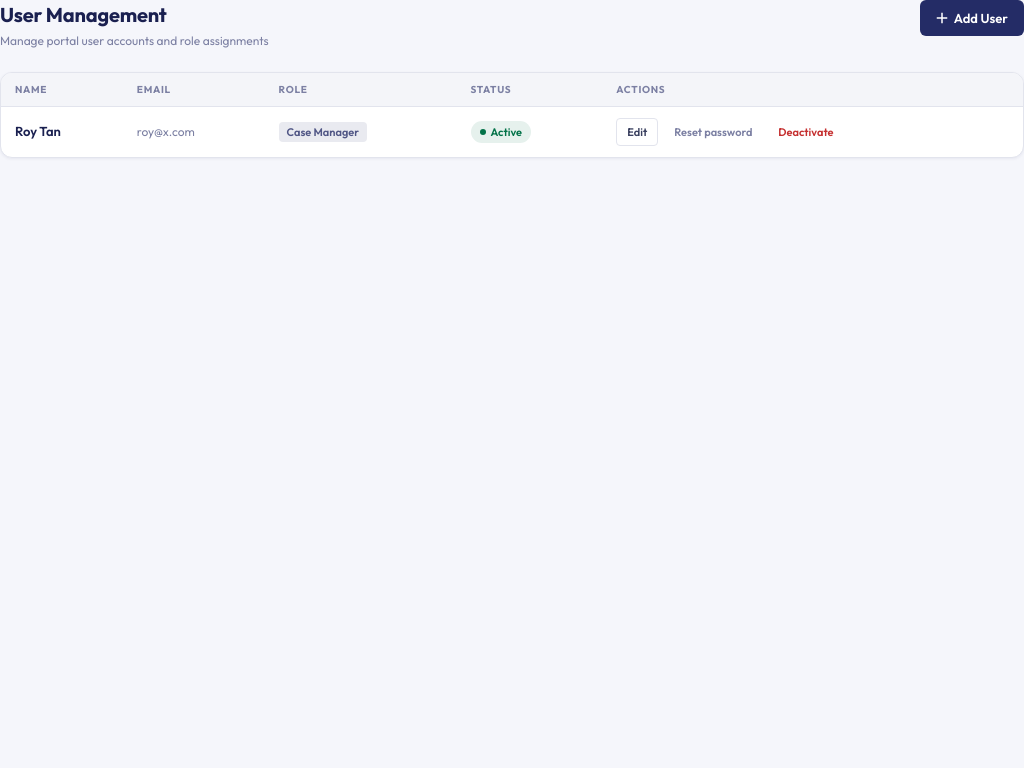
it: UserManagementPage — resetting a password › cancelling resets nothing
Click the button "Reset password": point(713, 132) x1=664 y1=118 x2=762 y2=146
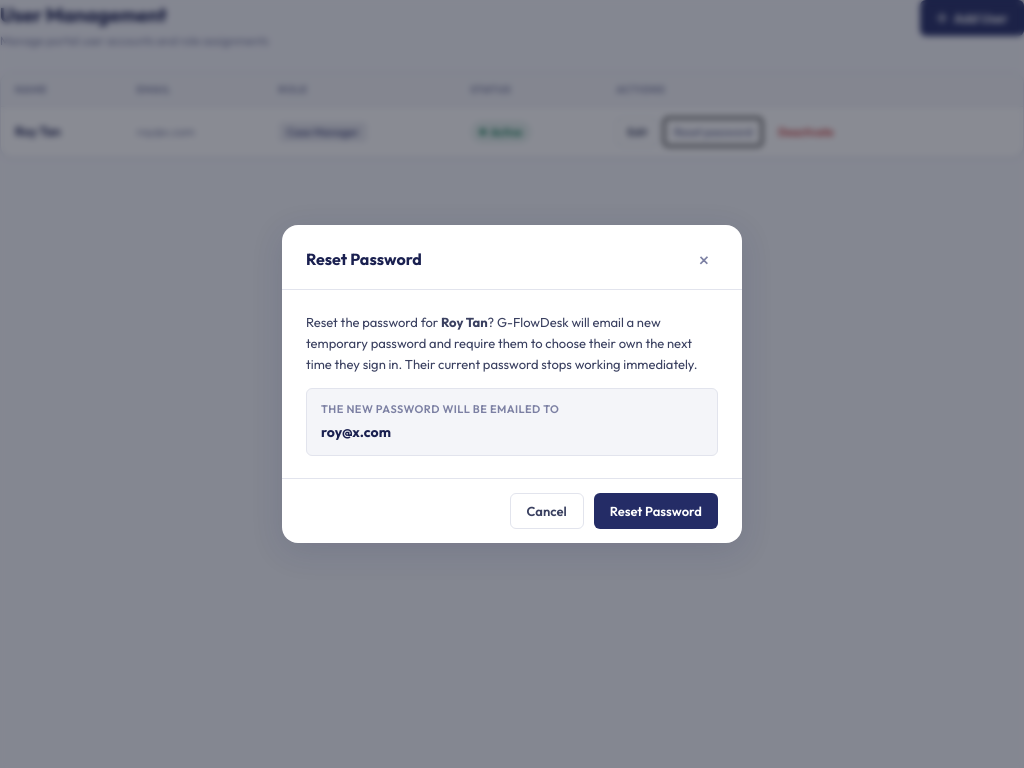
Click the button "Cancel": point(547, 511) x1=510 y1=493 x2=584 y2=529
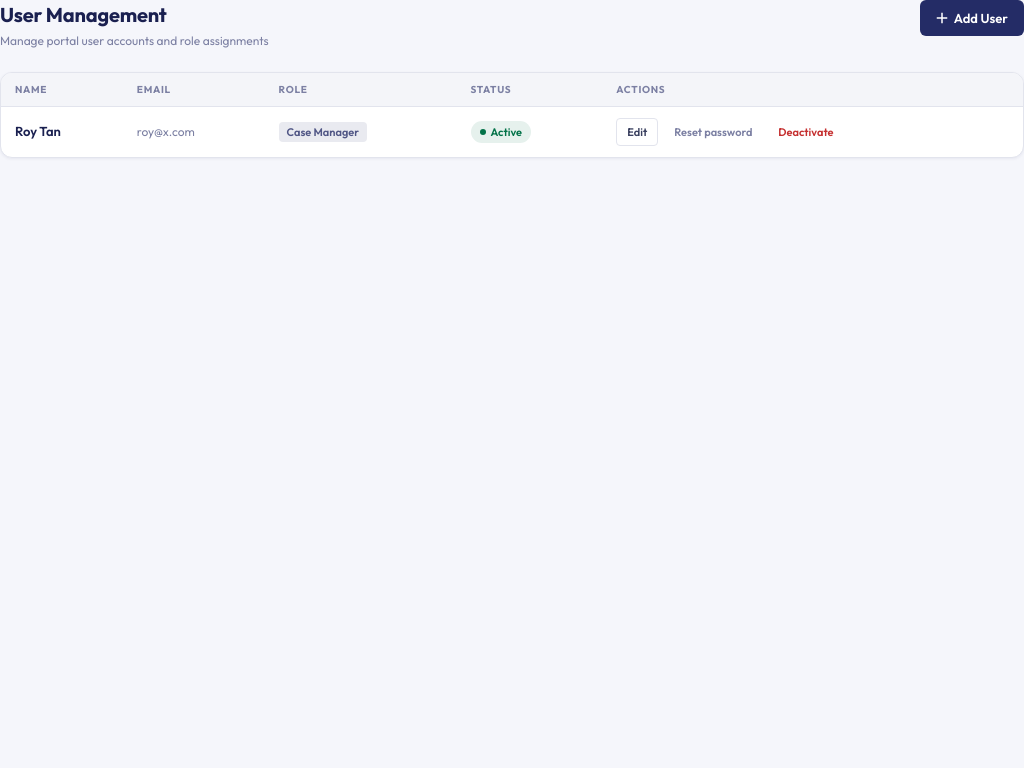
expect the text "The new password will be emailed to" is gone: met
